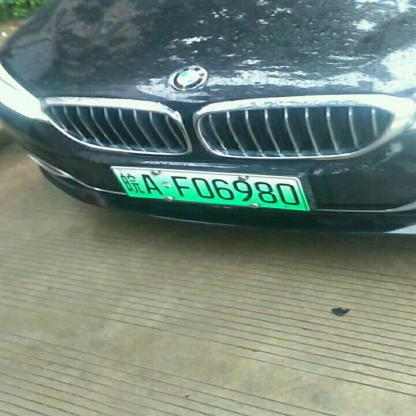lp: (108, 166, 307, 210)
